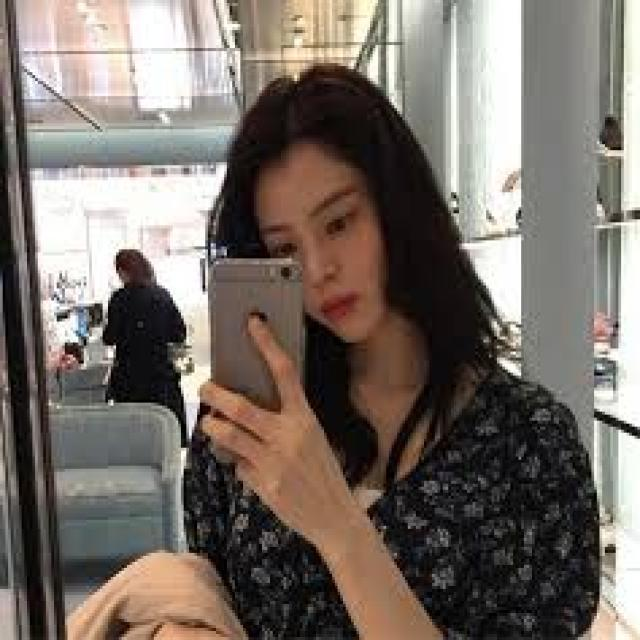Phone: (208, 259, 306, 412)
